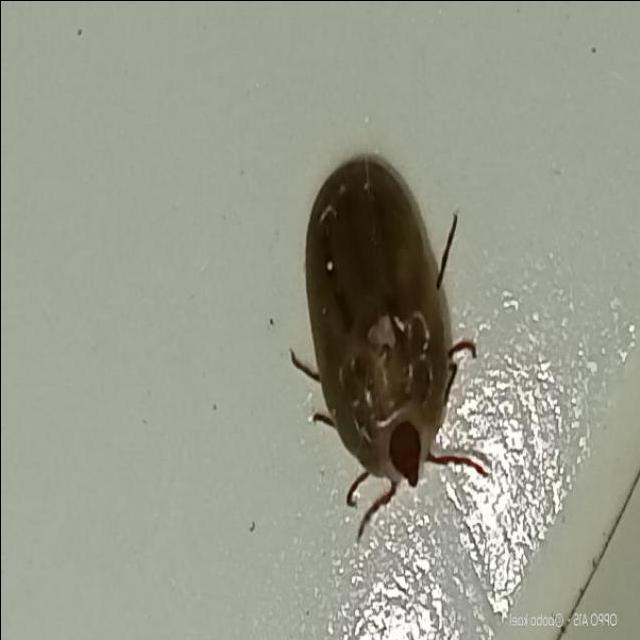Rhipicephalus Sanguineus-F-Fed: (275, 152, 484, 536)
